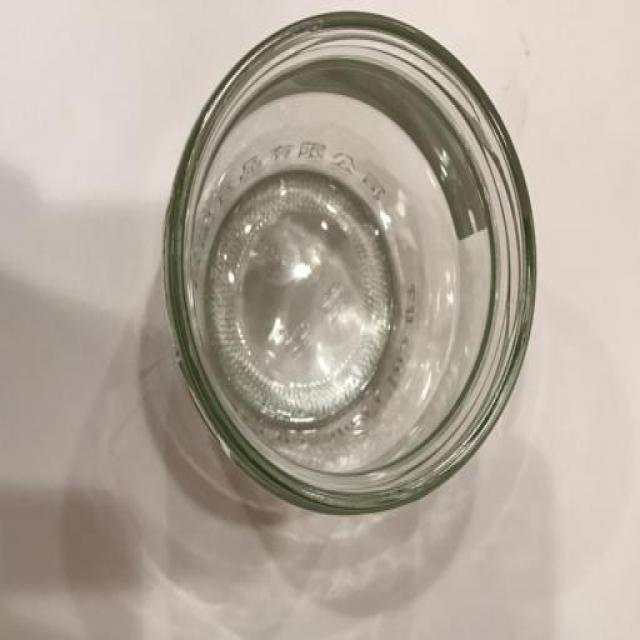glass: (160, 6, 540, 518)
